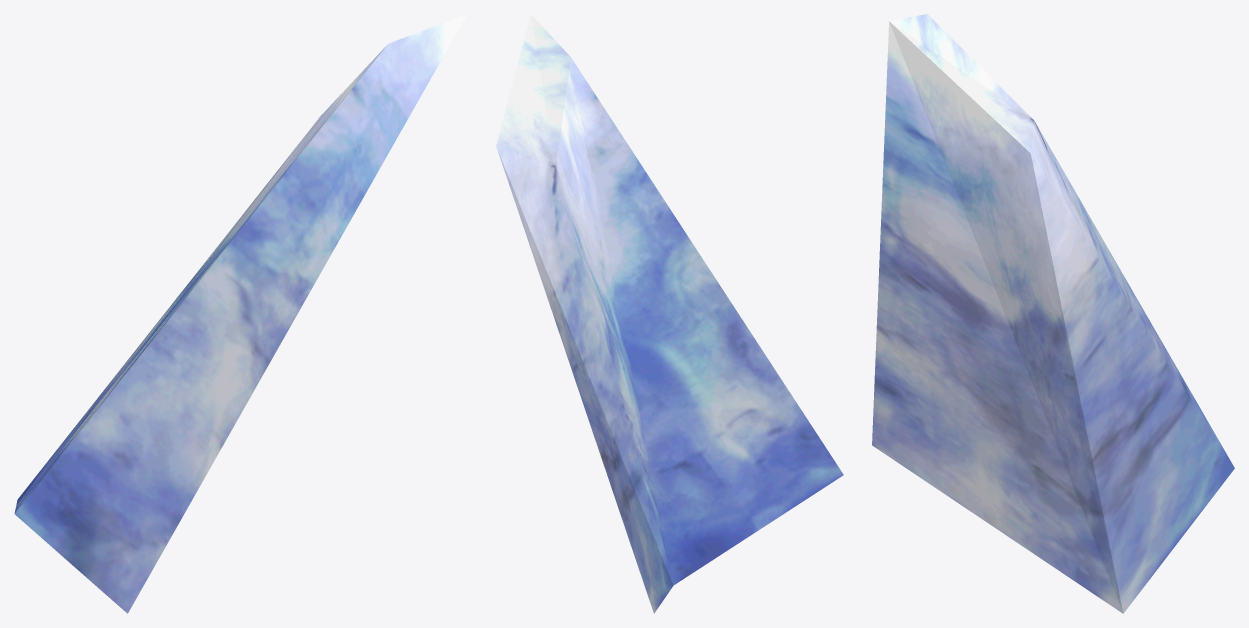
File: icestalagmite03.glb
The picture shows the model from 3 angles, left to right: view 1: azimuth 30°, elevation 25°; view 2: azimuth 150°, elevation 25°; view 3: azimuth 270°, elevation 25°; orthographic projection. The views are drawn at different scales.
Visible parts, largest first — view 1: icestalagmite03; view 2: icestalagmite03; view 3: icestalagmite03.
Part boxes in pixels (x1,y1,x2,y2): icestalagmite03: (14,14,467,613); icestalagmite03: (496,14,843,613); icestalagmite03: (872,14,1234,613).
Size of the model in its own units: 1822 by 2495 by 1109.
1 material, 1 textured.
